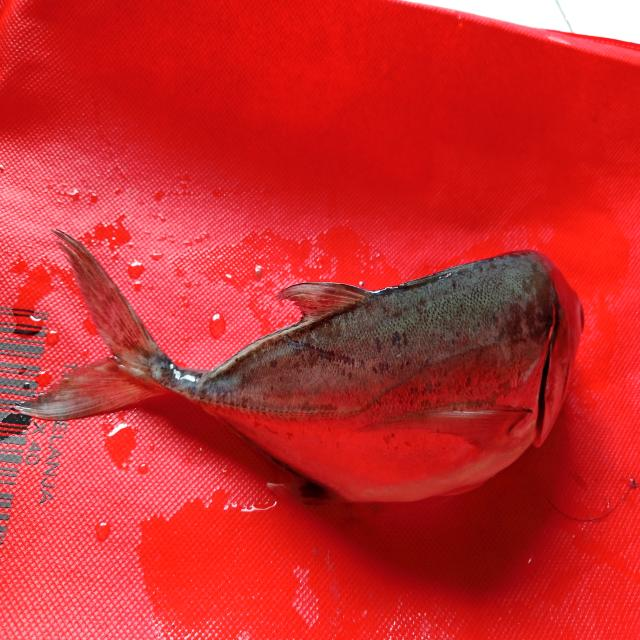ikan: (7, 210, 609, 528)
